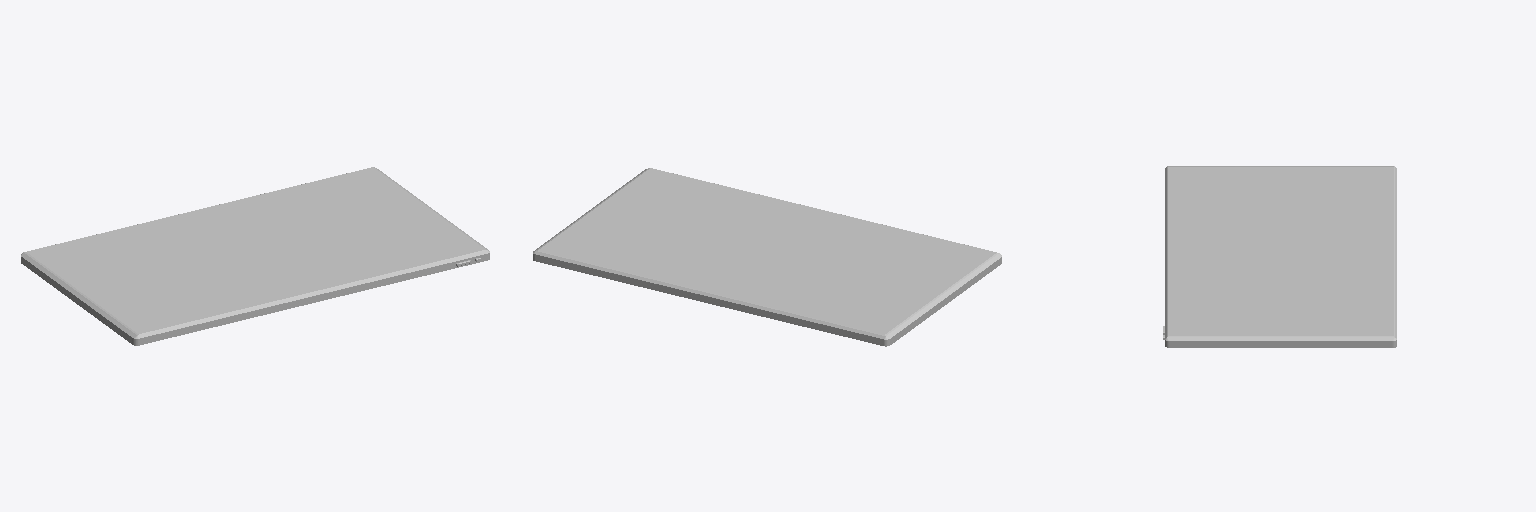
File: display.obj
3 renders of one model, left to right at view 1: azimuth 30°, elevation 25°; view 2: azimuth 150°, elevation 25°; view 3: azimuth 270°, elevation 25°, orthographic.
Visible parts, largest first — view 1: Cube; view 2: Cube; view 3: Cube.
Part boxes in pixels (left/top/right/bottom): Cube: left=21, top=167, right=489, bottom=345; Cube: left=533, top=168, right=1001, bottom=346; Cube: left=1163, top=166, right=1396, bottom=347.
Bounding box in the file's own units: 0.406 × 0.0105 × 0.231.